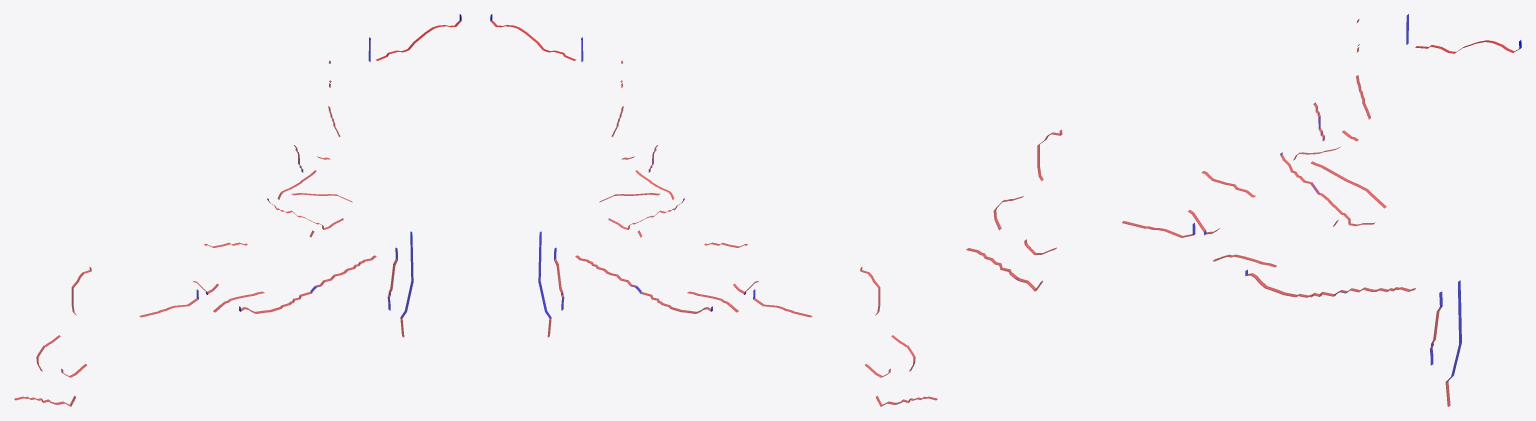
File: Fire_Level_Colliders_092916.fbx
3 renders of one model, left to right at view 1: azimuth 30°, elevation 25°; view 2: azimuth 150°, elevation 25°; view 3: azimuth 330°, elevation 25°, orthographic. The views are drawn at different scales.
Visible parts, largest first — view 1: polySurface43; view 2: polySurface43; view 3: polySurface43.
Part boxes in pixels (x1=…): polySurface43: x1=240, y1=255, x2=376, y2=313; polySurface43: x1=575, y1=255, x2=711, y2=313; polySurface43: x1=1245, y1=273, x2=1415, y2=297.
Bounding box in the file's own units: 322 × 213 × 2.
